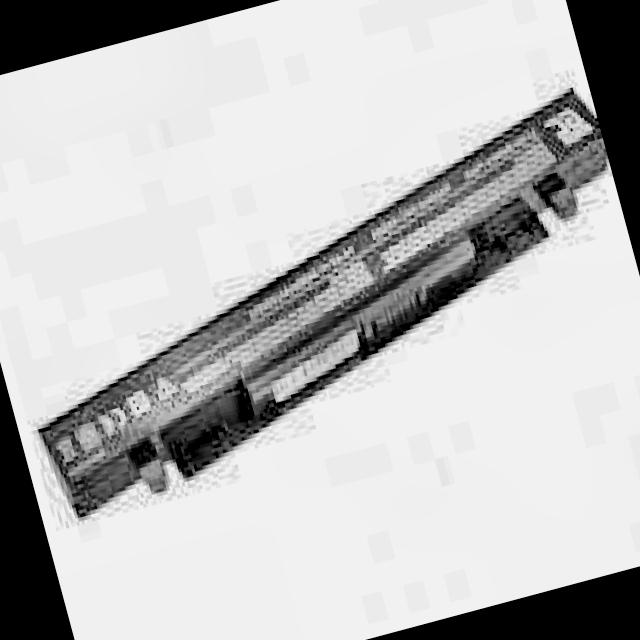Battery: (0, 72, 640, 553)
